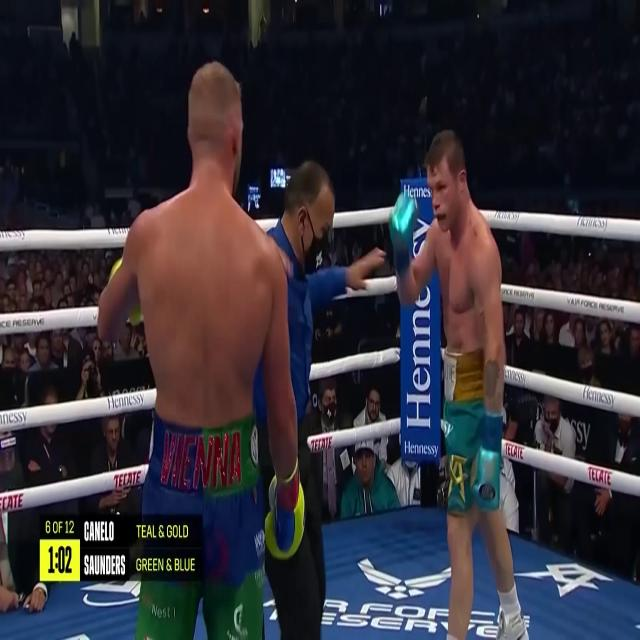boxer_1: (139, 63, 272, 427)
boxer_2: (427, 130, 485, 348)
gloves_1: (265, 463, 304, 561), (107, 254, 122, 284), (127, 309, 142, 328)
gloves_2: (474, 415, 503, 511), (389, 193, 418, 276)
